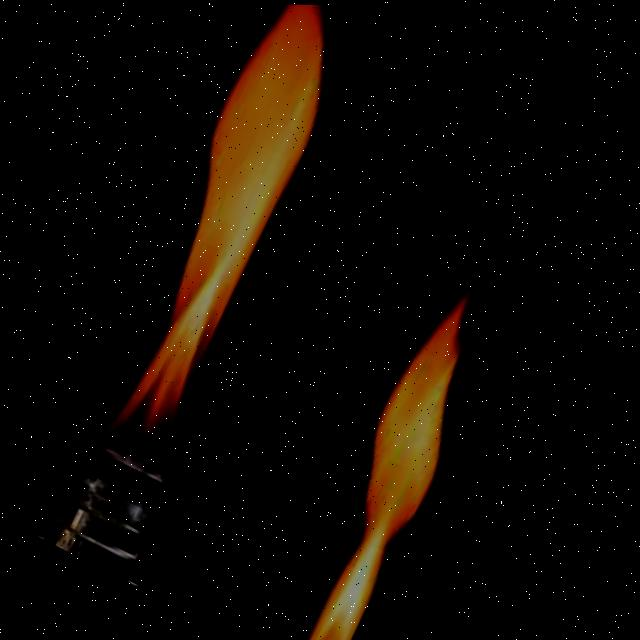Fire: (41, 0, 402, 501), (234, 234, 588, 640)
